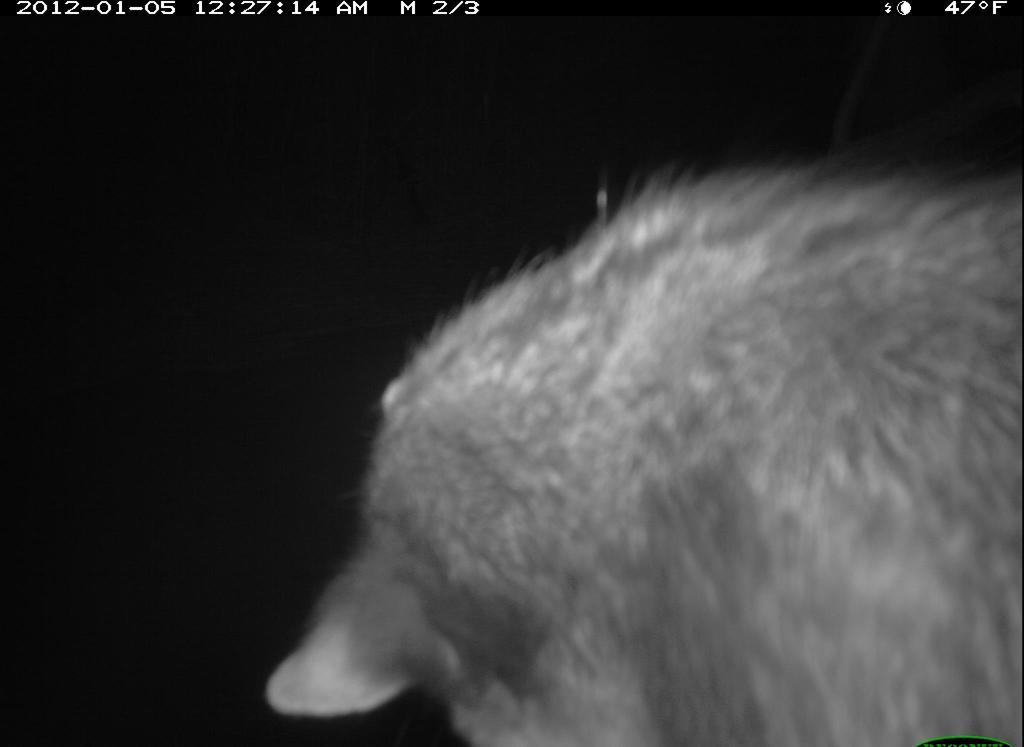raccoon: (255, 145, 1022, 745)
